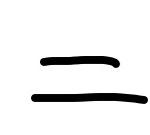eqv: (32, 56, 148, 104)
